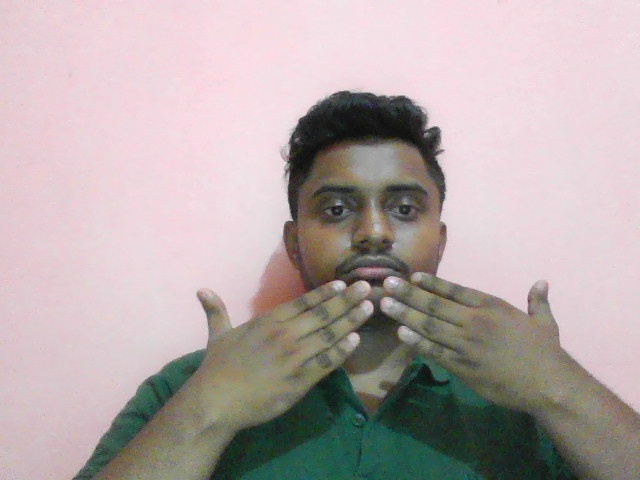Thank You: (148, 277, 601, 434)
